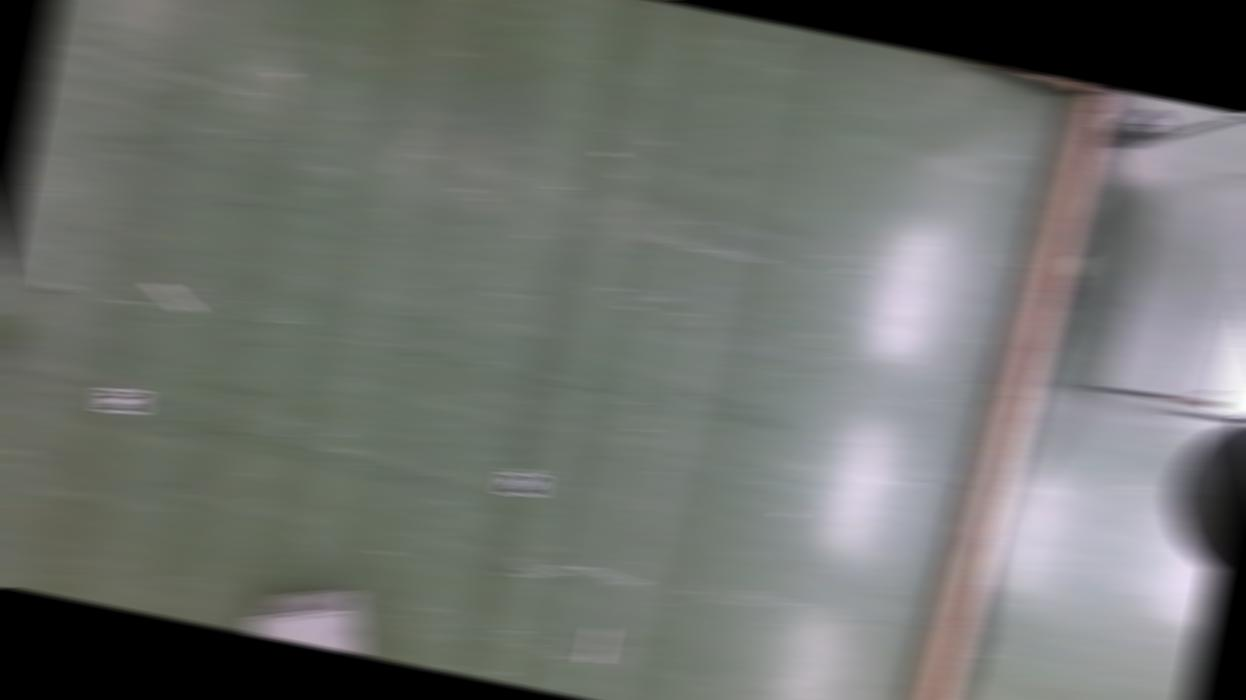probes: (148, 280, 203, 312), (584, 624, 612, 664)
rako: (245, 570, 381, 656)
